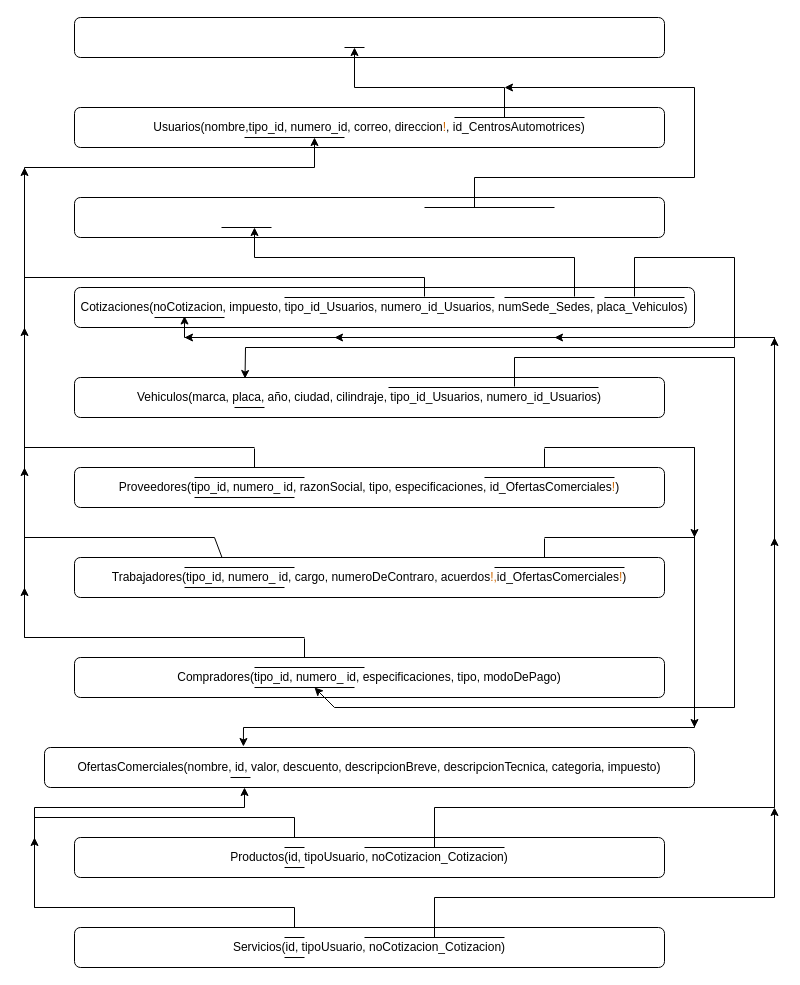
Image size: 800x985. Some labels were removed from this diagram. The box of each missing label's shape, as (x1, y1, x2, y2) in pixels:
CentrosAutomotrices(id, nombre, especificaciones): (74, 16, 664, 58)
Sedes(numSede, direccion ! , nombre, ciudad, id_CentrosAutomotrices): (74, 196, 664, 238)
